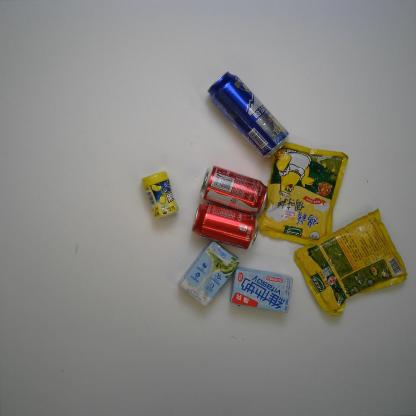Alcohol: (206, 69, 291, 162)
Drink: (197, 164, 272, 215), (190, 200, 259, 254)
Gum: (139, 166, 182, 223)
Milk: (174, 238, 241, 310), (226, 264, 294, 314)
Seasoner: (292, 207, 411, 321), (256, 139, 350, 251)
